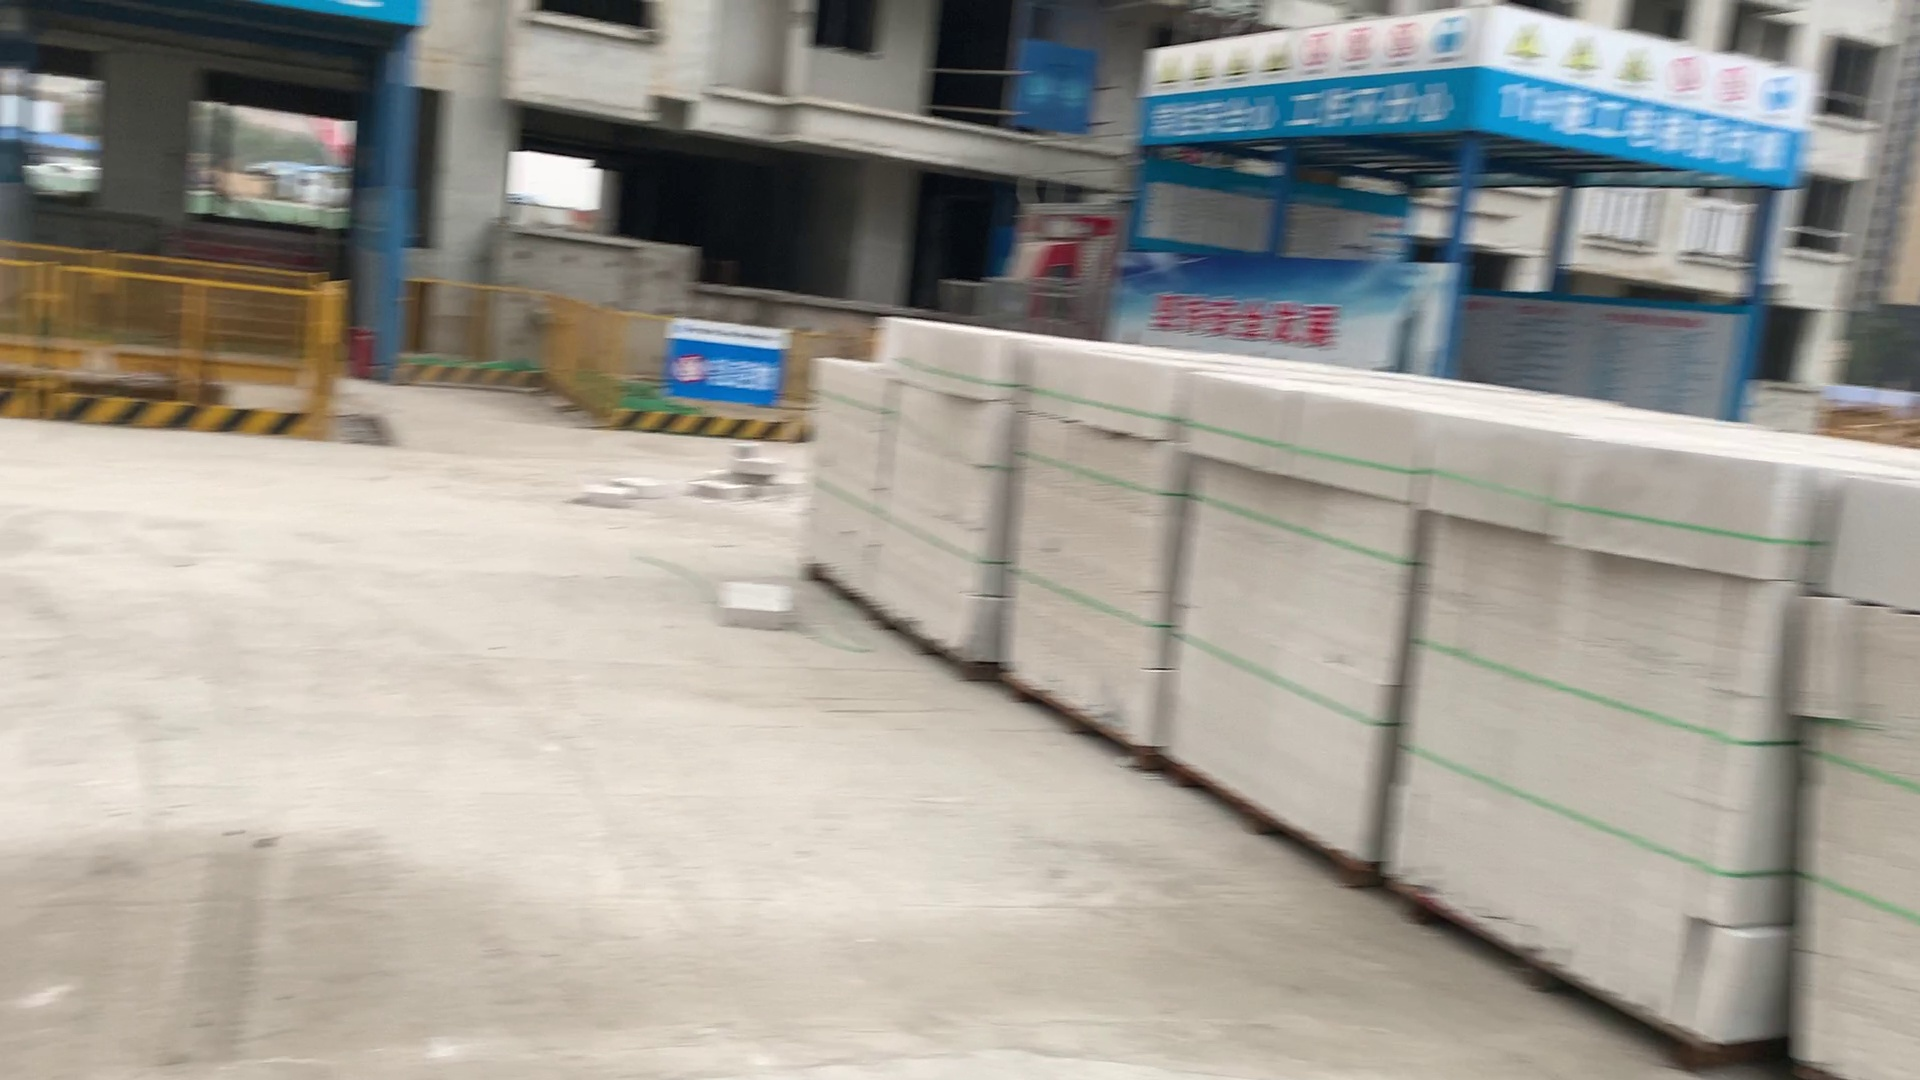brickwork: (1407, 376, 1797, 1065), (1183, 360, 1381, 895), (1758, 440, 1917, 1080), (1009, 324, 1167, 765), (874, 313, 994, 676), (808, 352, 877, 597)
